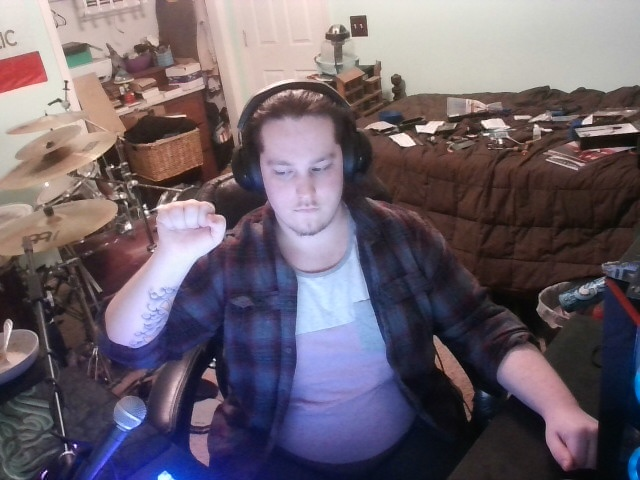yes: (148, 185, 242, 283)
